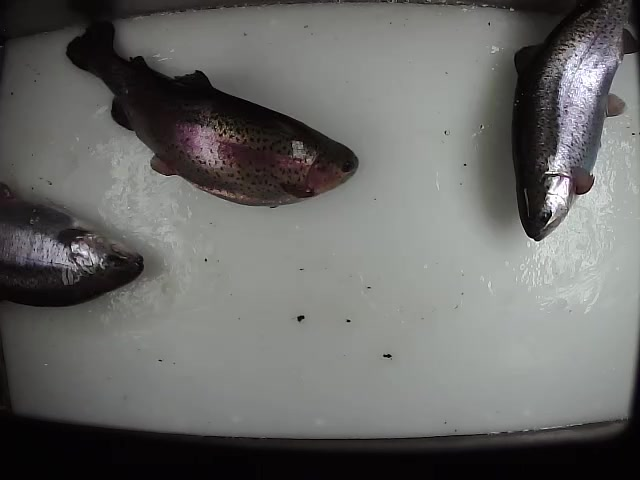fish: (64, 18, 360, 209)
